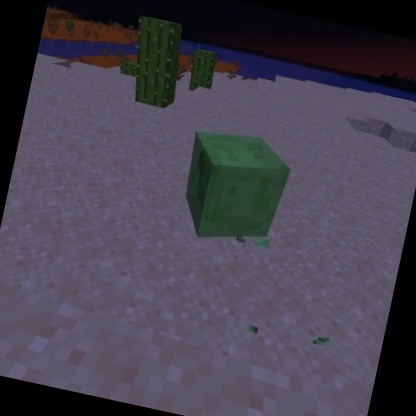slime: (169, 120, 299, 257)
